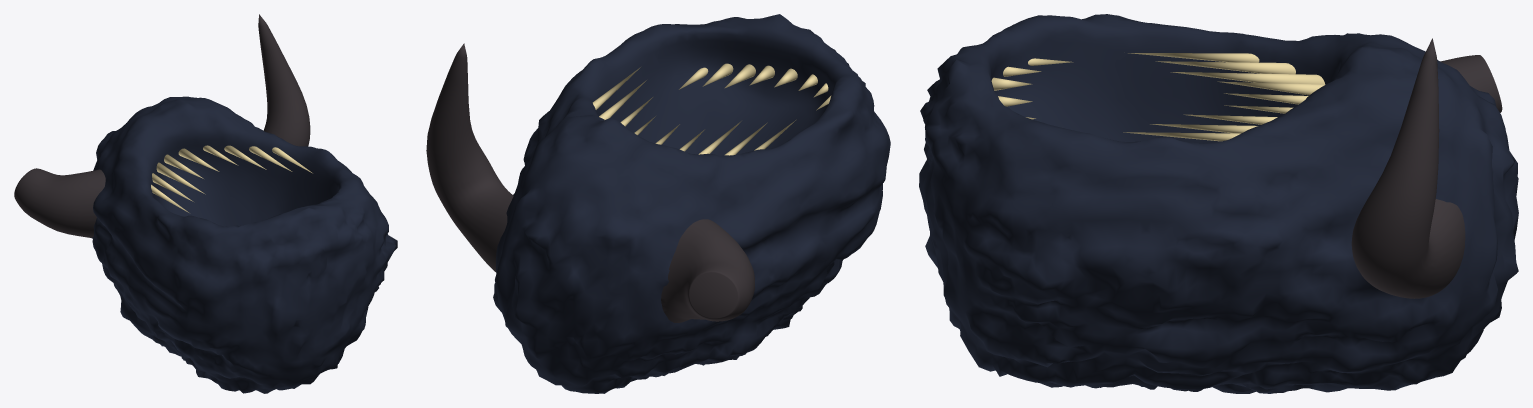
Rendered from Blob Monster.fbx.
3 views of the same model, side by side, from view 1: azimuth 30°, elevation 25°; view 2: azimuth 150°, elevation 25°; view 3: azimuth 270°, elevation 25° (orthographic). The views are drawn at different scales.
Visible parts, largest first — view 1: Blob Monster; view 2: Blob Monster; view 3: Blob Monster.
Part boxes in pixels (<box>): Blob Monster: <box>14,14,397,393</box>; Blob Monster: <box>426,14,890,393</box>; Blob Monster: <box>919,14,1518,393</box>.
Bounding box in the file's own units: 866 × 824 × 1050.
